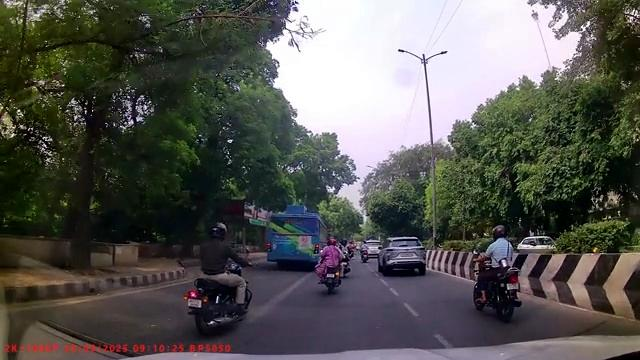motorcycle_with_helmet: (185, 221, 253, 336), (471, 223, 523, 322)
passenger_with_helmet: (315, 235, 343, 293)
